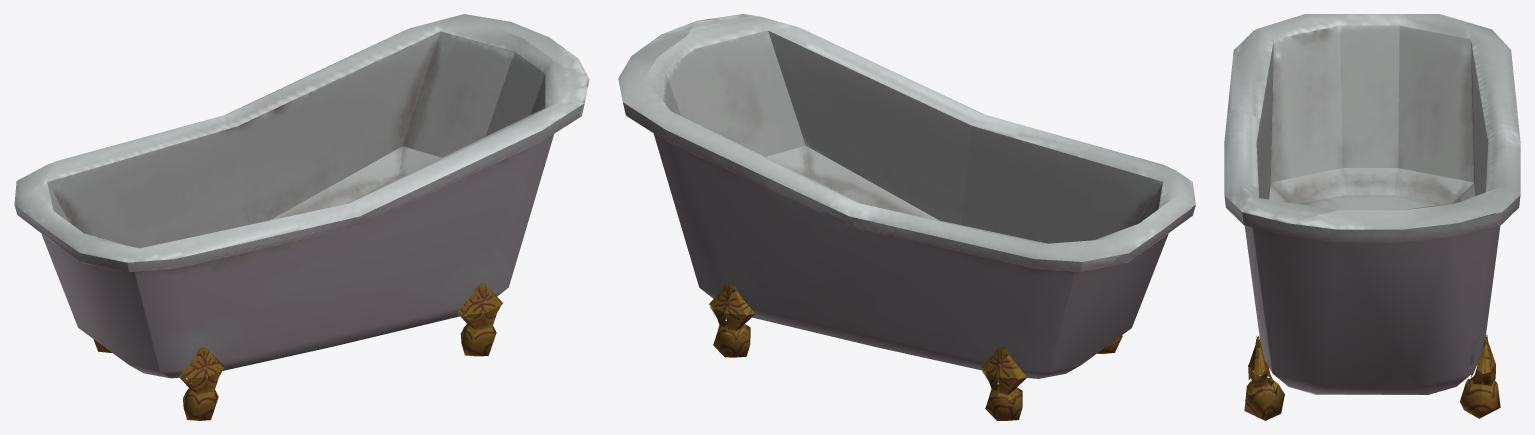
3 views of the same model, side by side, from view 1: azimuth 30°, elevation 25°; view 2: azimuth 150°, elevation 25°; view 3: azimuth 270°, elevation 25° (orthographic). The views are drawn at different scales.
Visible parts, largest first — view 1: bath_01_low, bath_04_low; view 2: bath_01_low, bath_04_low; view 3: bath_01_low, bath_04_low.
Part boxes in pixels (left/top/right/bottom): bath_01_low: left=14, top=14, right=589, bottom=378; bath_04_low: left=93, top=283, right=502, bottom=420; bath_01_low: left=618, top=14, right=1195, bottom=378; bath_04_low: left=709, top=284, right=1122, bottom=420; bath_01_low: left=1224, top=14, right=1520, bottom=394; bath_04_low: left=1244, top=334, right=1500, bottom=420.
Bounding box in the file's own units: 11.19 × 5.09 × 5.14.
1 material, 1 textured.
